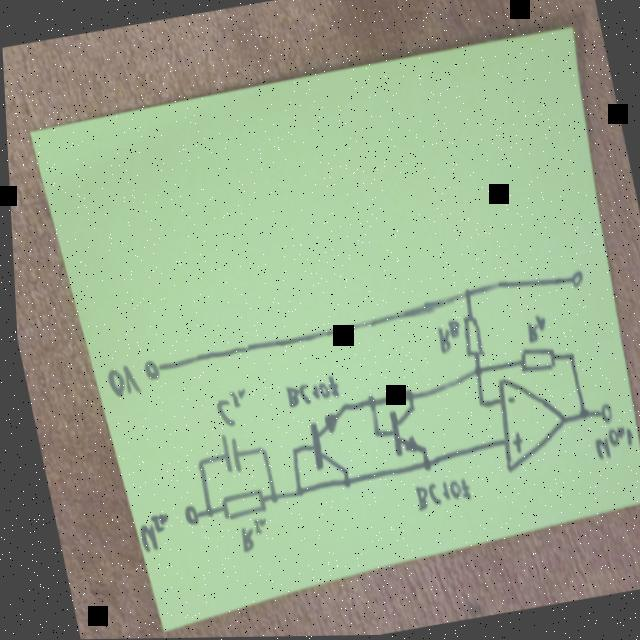capacitor: (211, 431, 241, 477)
junction: (570, 408, 585, 426), (466, 365, 480, 381), (414, 459, 427, 475), (456, 288, 469, 304), (398, 388, 410, 405), (188, 458, 201, 473), (360, 395, 372, 411), (286, 487, 299, 500), (470, 399, 483, 412), (335, 478, 347, 492), (262, 492, 273, 506), (365, 428, 377, 440), (560, 353, 571, 366), (251, 445, 262, 457), (198, 506, 208, 519), (283, 446, 294, 457)
resistor: (210, 488, 262, 523), (453, 315, 482, 362), (510, 346, 553, 377)
terminal: (136, 358, 157, 383), (591, 403, 609, 427), (176, 505, 194, 528), (564, 271, 582, 293)
text: (405, 477, 468, 515), (277, 373, 337, 411), (206, 387, 248, 431), (585, 425, 631, 465), (127, 511, 169, 554), (98, 363, 137, 401), (228, 518, 266, 556), (428, 318, 461, 359), (519, 314, 546, 347)
transistor: (297, 404, 353, 480), (380, 405, 422, 462)
